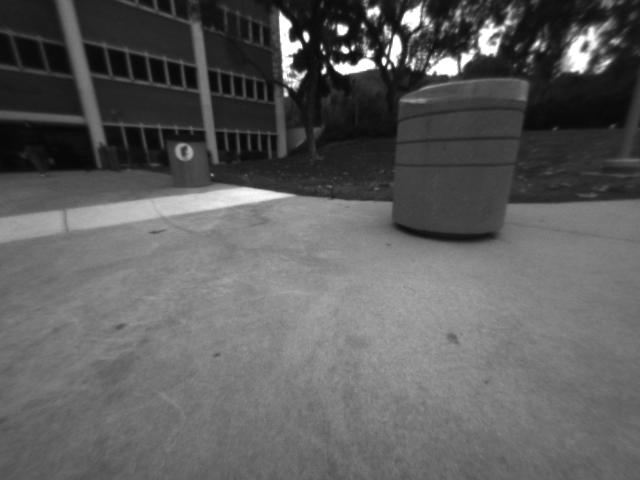trashcan: (392, 85, 518, 251), (168, 131, 223, 199)
